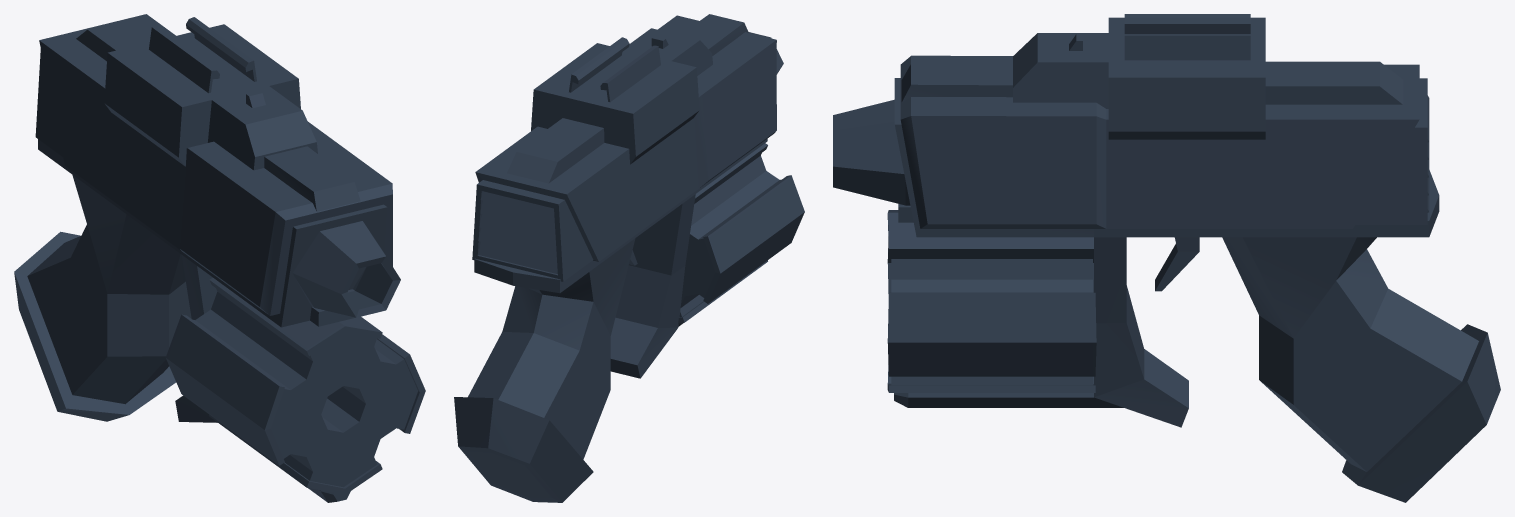
Rendered from handgun_01.FBX.
3 views of the same model, side by side, from view 1: azimuth 30°, elevation 25°; view 2: azimuth 150°, elevation 25°; view 3: azimuth 270°, elevation 25° (orthographic). The views are drawn at different scales.
Parts seen in each view (by area): view 1: handgun_01; view 2: handgun_01; view 3: handgun_01.
Boxes of the visible parts, x1,y1,x2,y2 form: handgun_01: [14, 14, 425, 502]; handgun_01: [454, 14, 804, 502]; handgun_01: [833, 14, 1500, 502].
Bounding box in the file's own units: 10.8 × 28.71 × 36.83.
